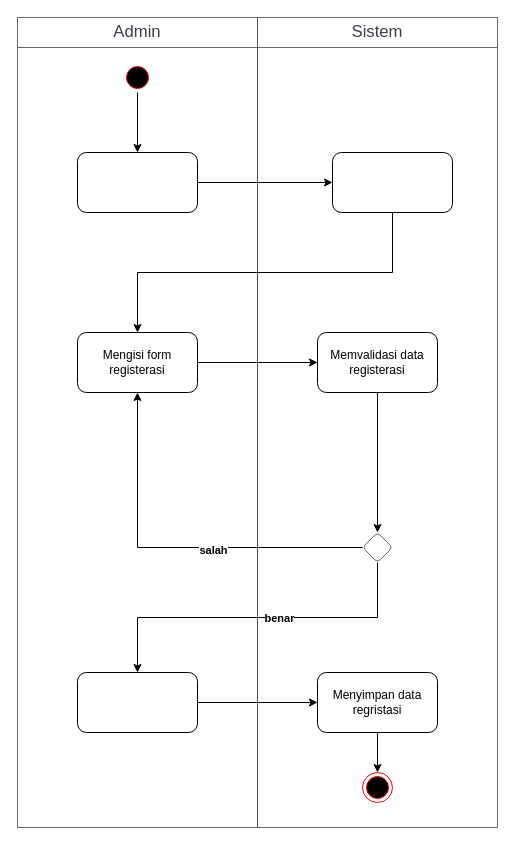
Image size: 515x845. Some labels were removed from this diagram. The shapes that lost their labels are listed below. From the top down, each one's centre as x and y in pixels, then its label:
pixel 137 182: Memasuki menu regristasi
pixel 392 182: Menampilkan halaman form login
pixel 137 702: Mengirim data regristasi
